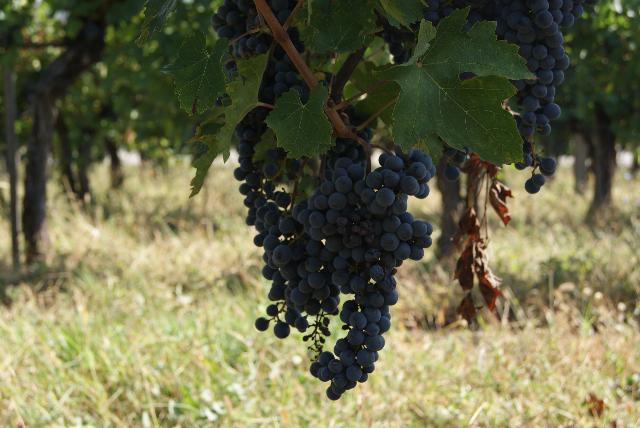grapes: (292, 150, 434, 399), (425, 0, 584, 194), (254, 206, 338, 358)
